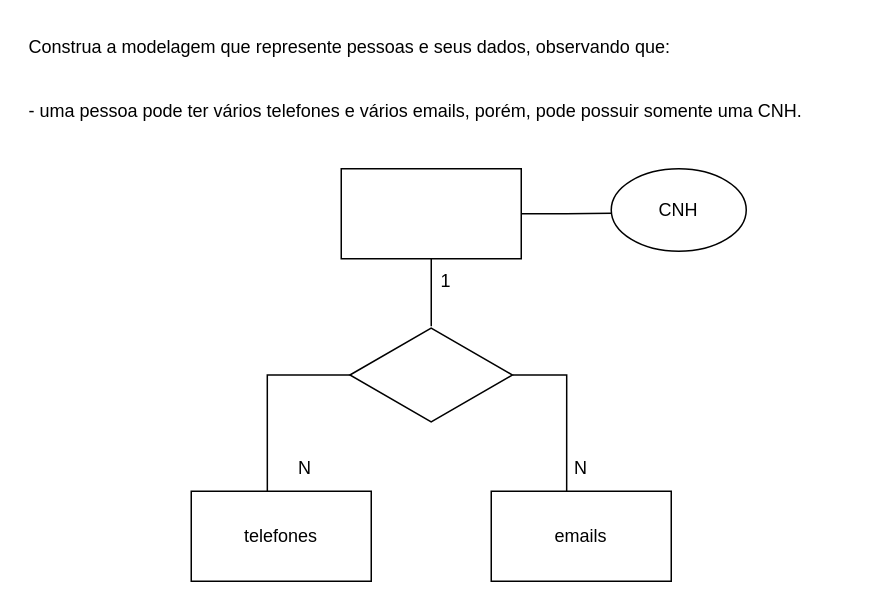
Image size: 891x608. Some labels were removed from this diagram. The centre of each missing label's shape, as x and y in pixels:
"Pessoas" belongs at [430,213].
"possui" belongs at [430,374].
